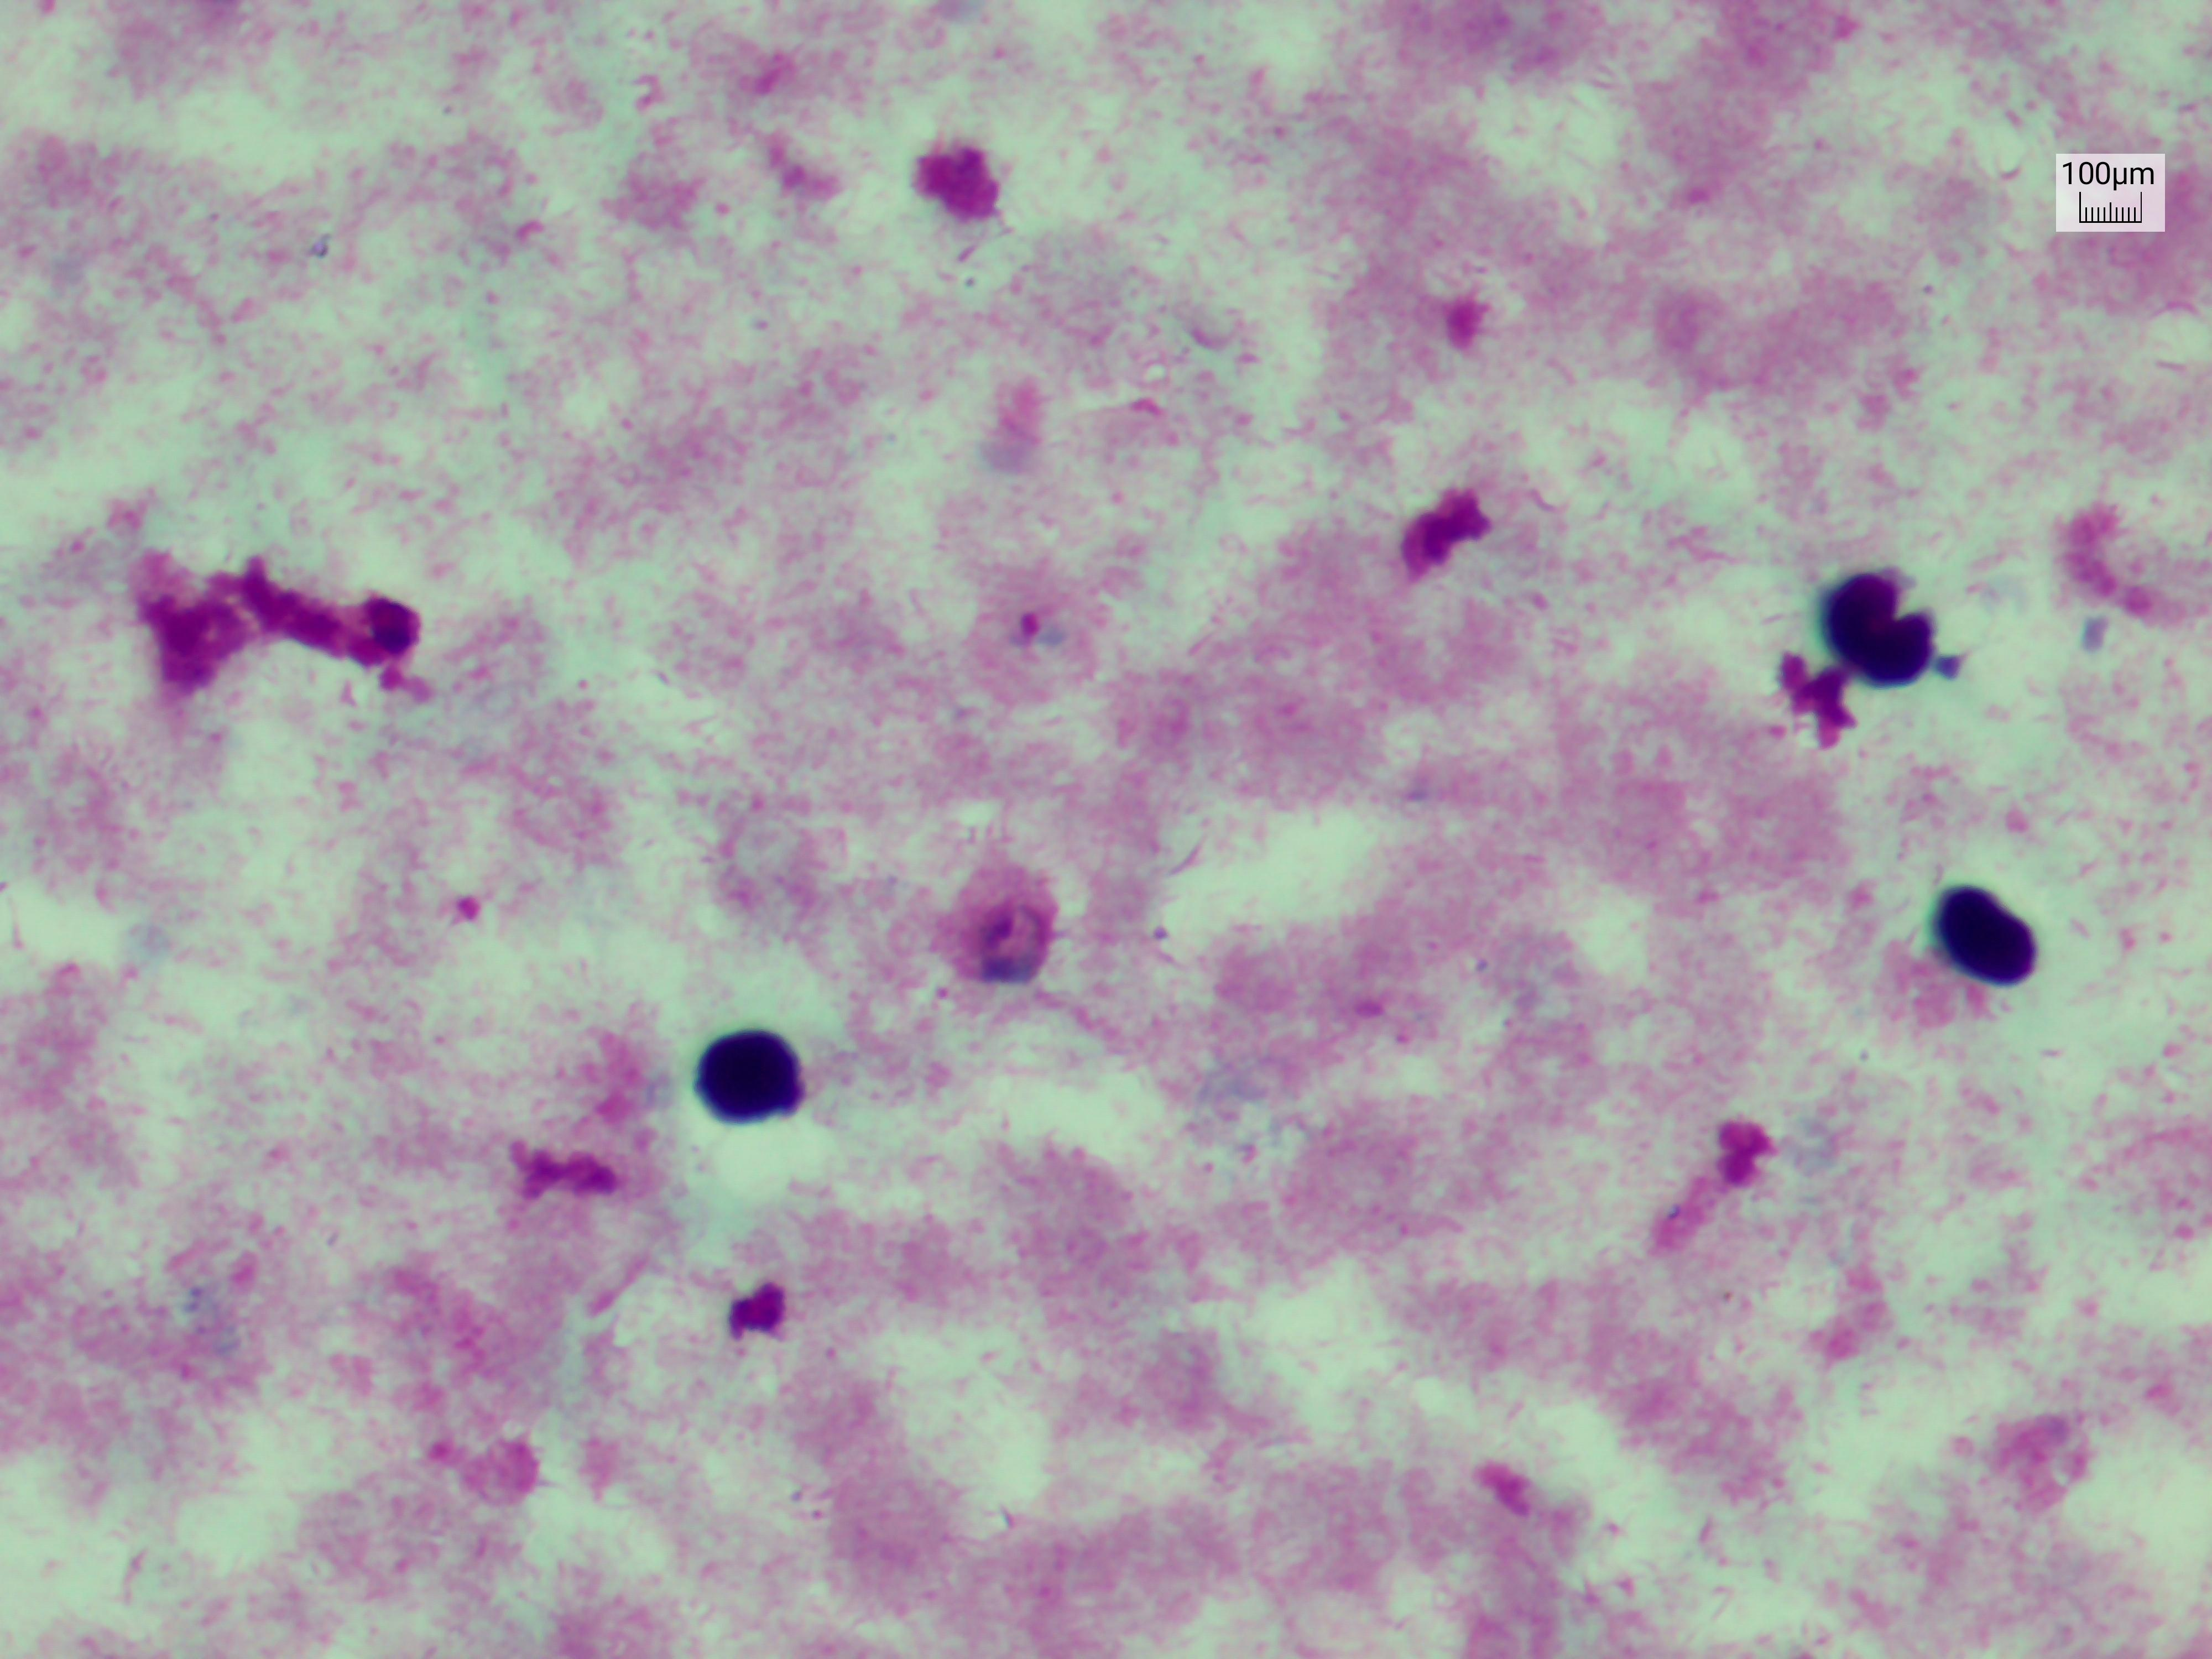p.vivax: (928, 843, 1073, 1035), (974, 561, 1108, 727), (150, 1239, 270, 1398)
